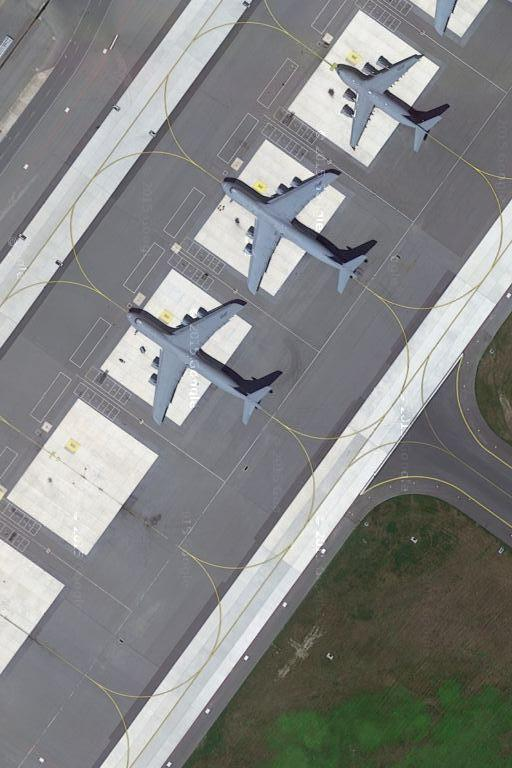C-17: (332, 48, 446, 157)
KC-135: (219, 161, 377, 299), (125, 298, 278, 431)
